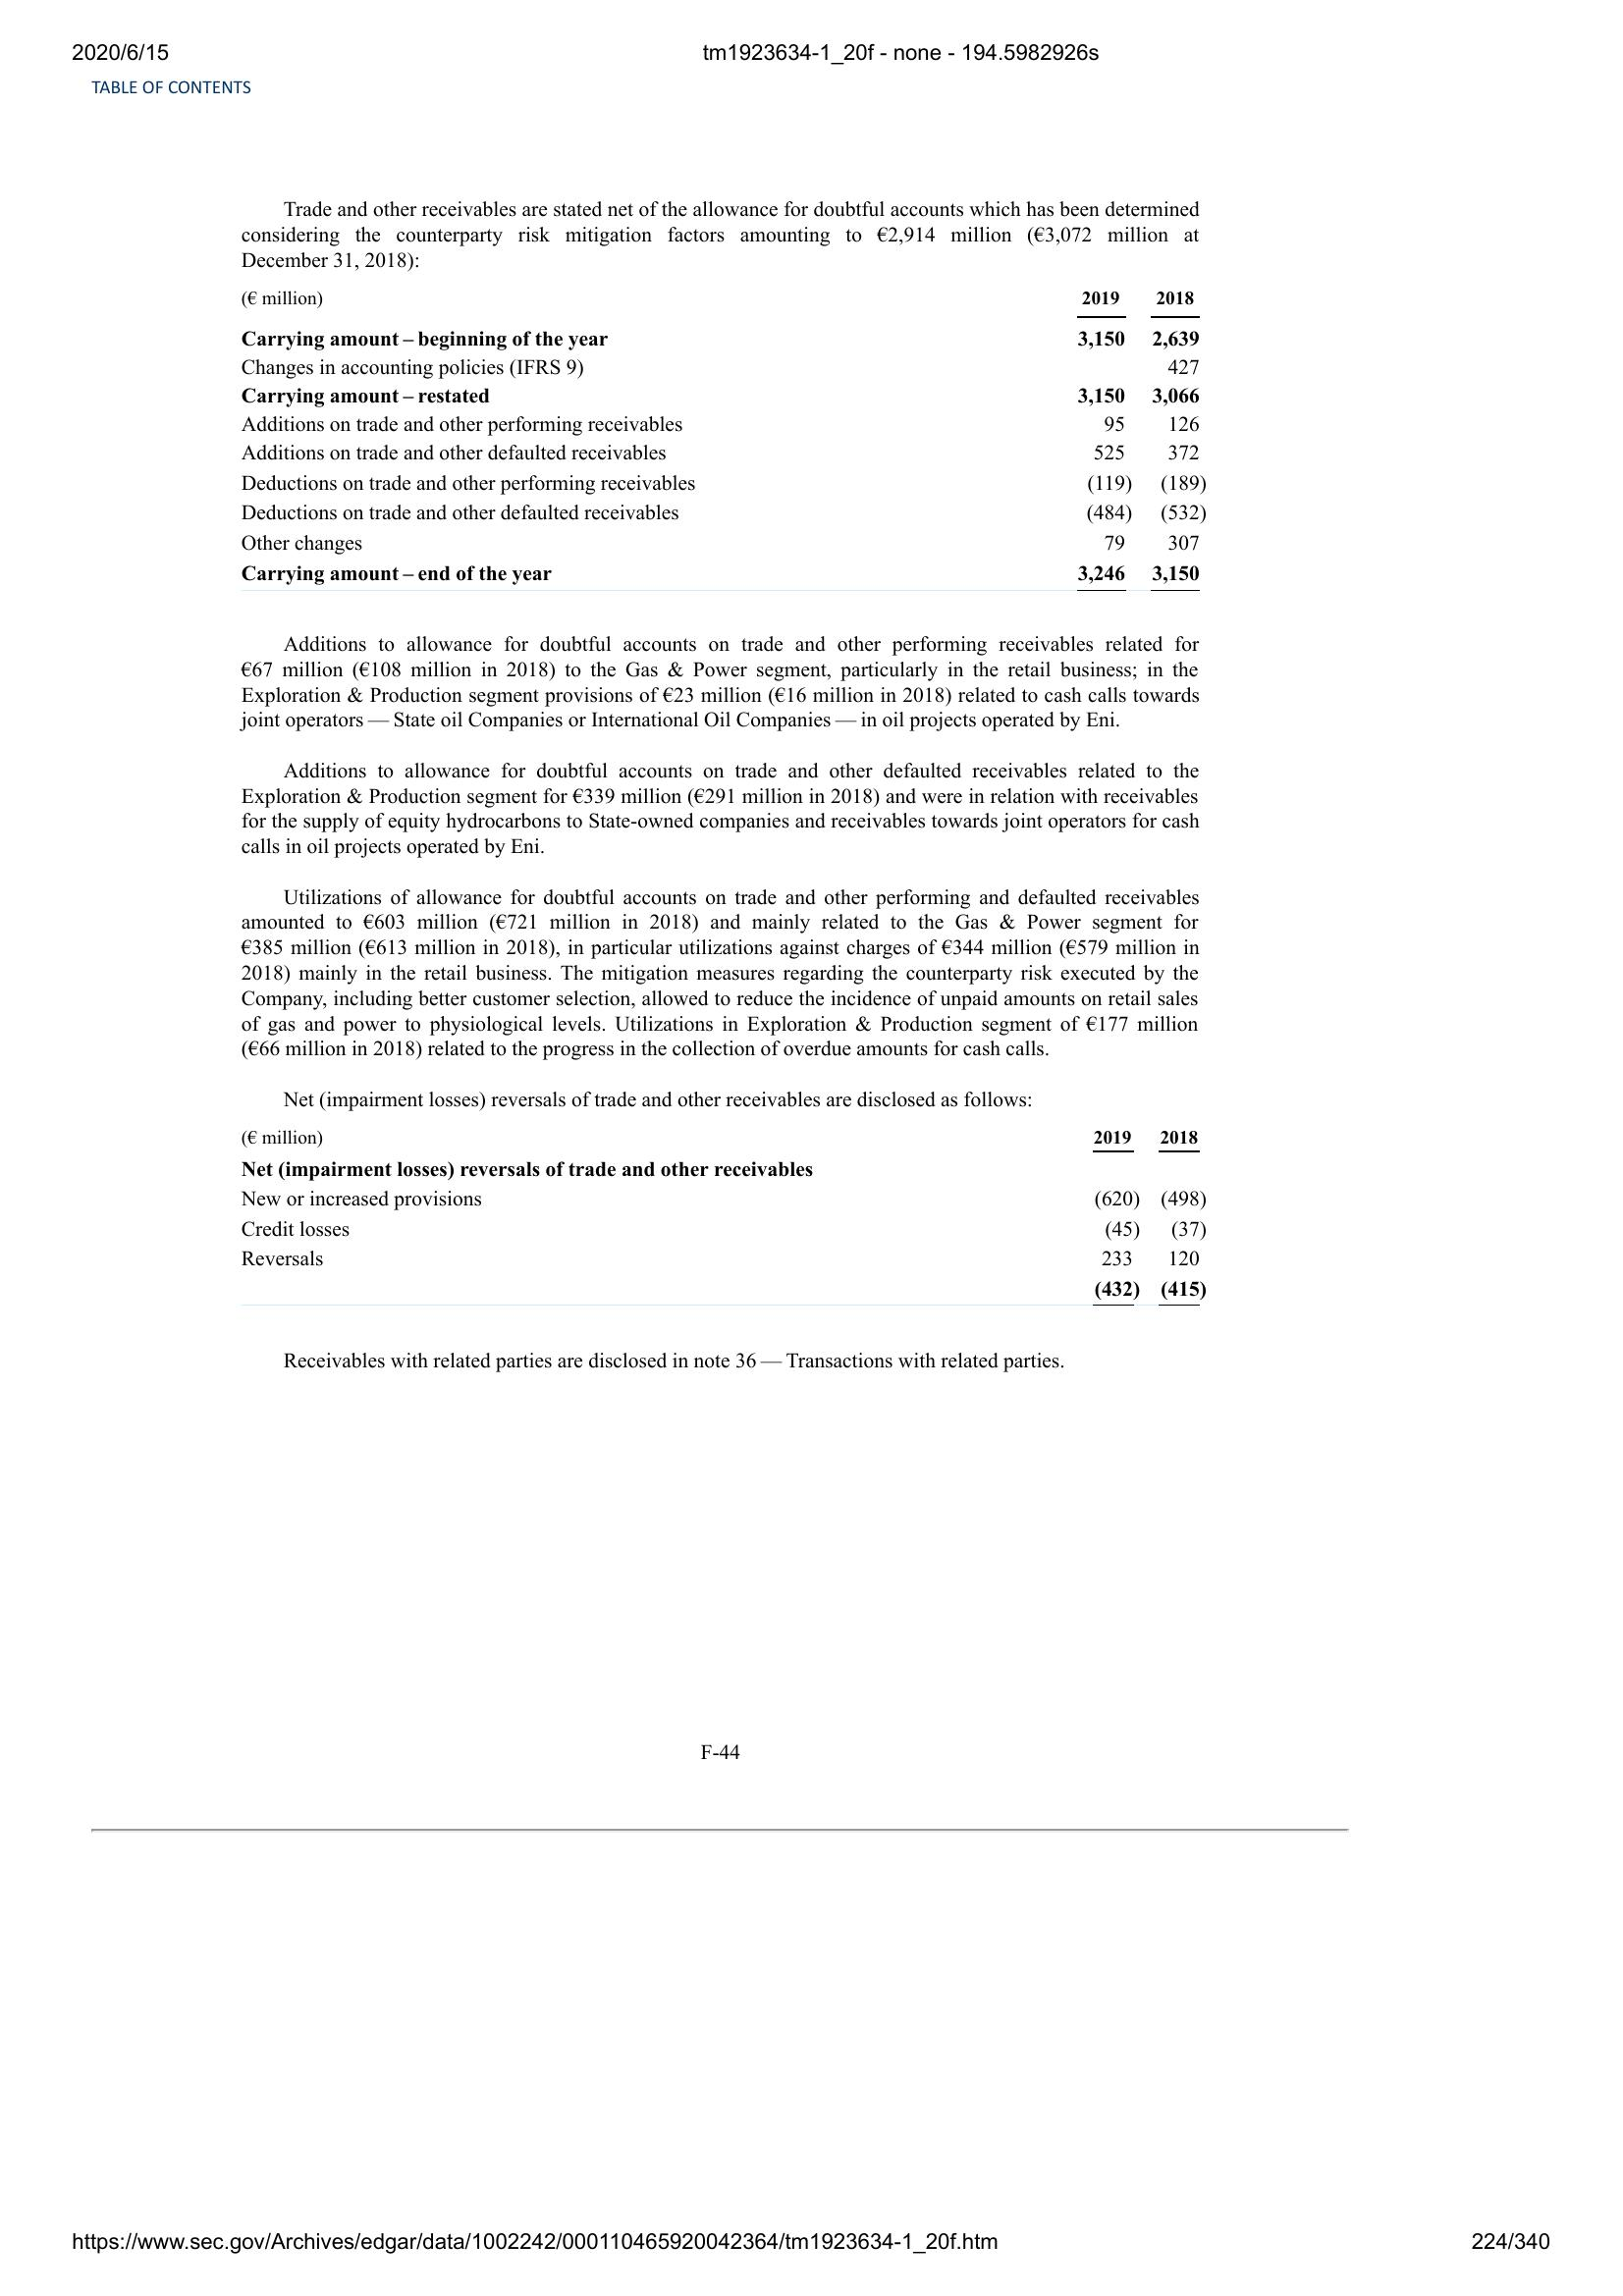table: (242, 288, 1215, 600), (230, 1116, 1208, 1315)
